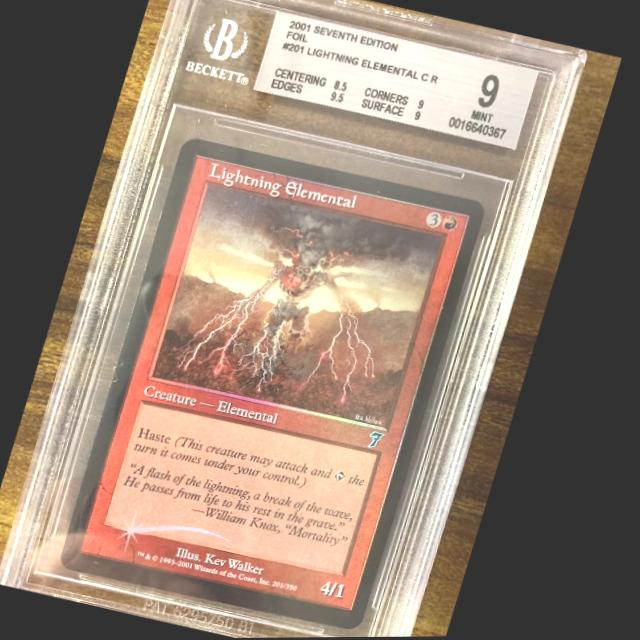bgs_label: (253, 11, 539, 151)
bgs_slab: (2, 0, 590, 638)
card: (64, 135, 490, 631)
